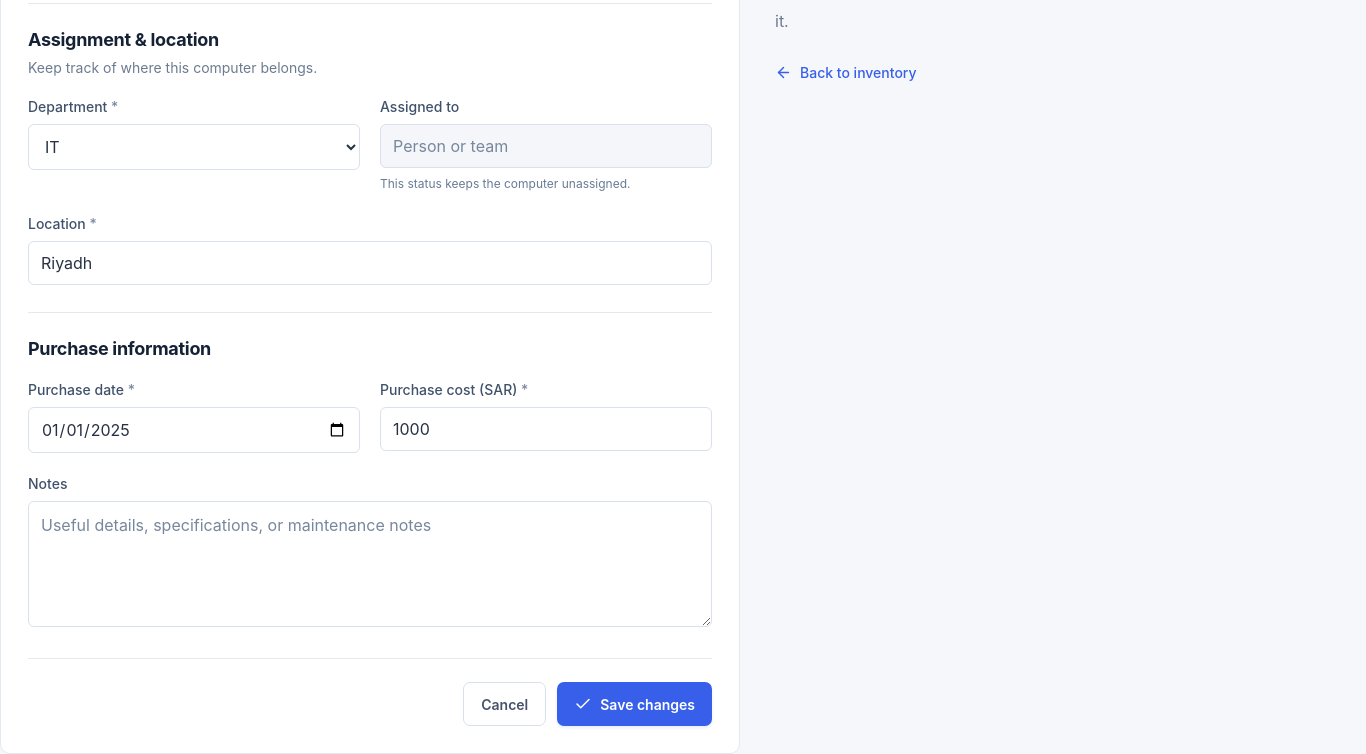
Frontend + HTTP integration › retains entered fields after a save network error
This screenshot has width=1366, height=754.
(page scrolled)
Step 1. Click the button "Save changes" → (635, 704), box [557,682,712,726]
(page scrolled)
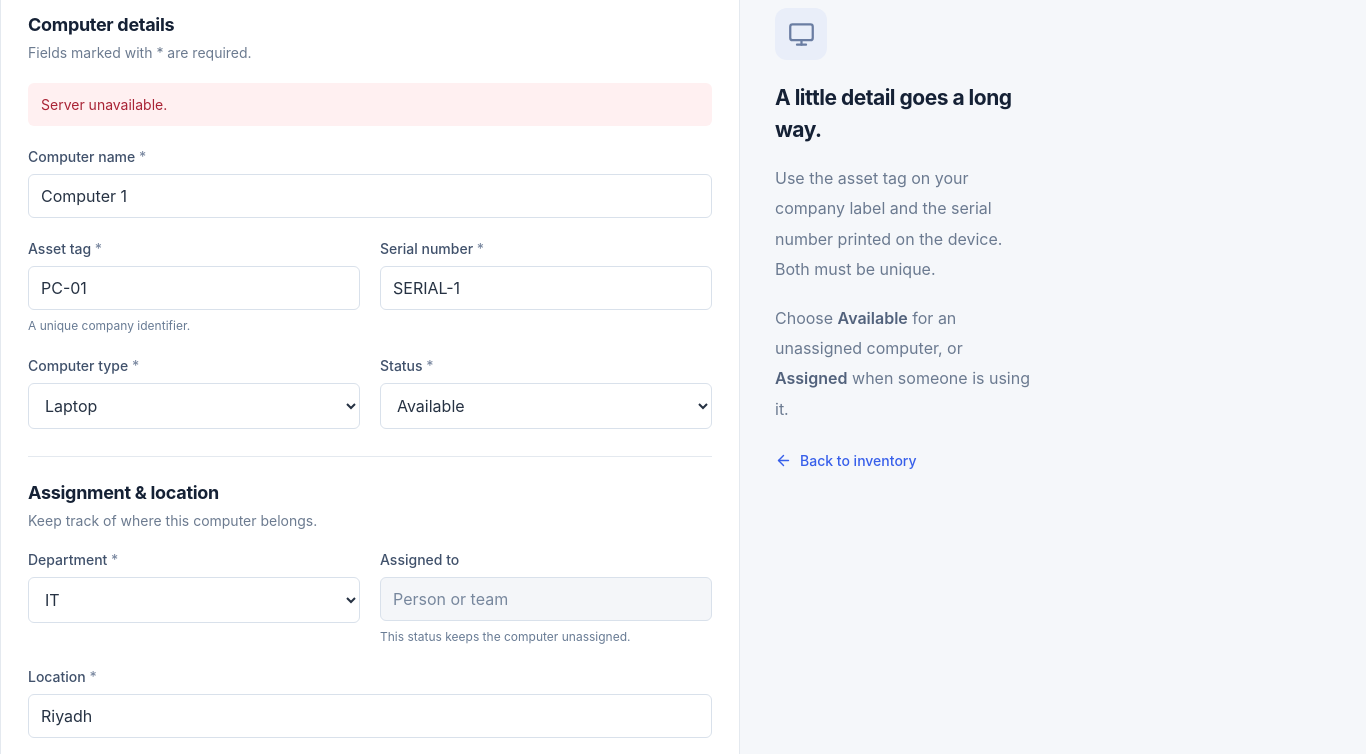
Check: the field labelled "Computer name" holds "Computer 1", box [28,174,712,218]
Check: the text "Server unavailable." is shown, box [28,83,712,126]
